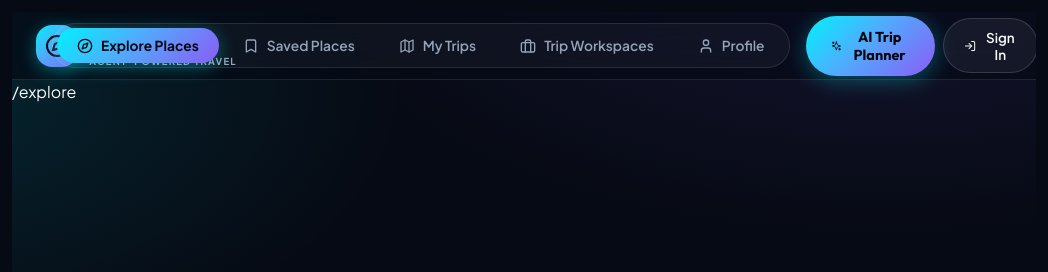
Test case: Navbar navigation › navigates to /trips from the Trip Workspaces desktop tab
Click the button "Trip Workspaces" at (587, 46), box [500,28,674,63]
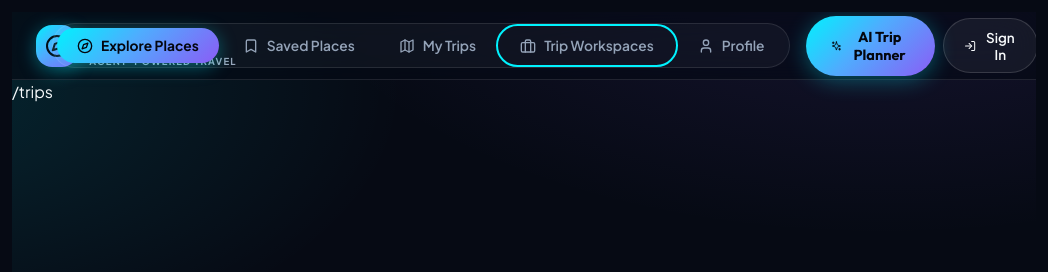
expect the text with test id "location" reads "/trips": met, box [12,81,53,102]
